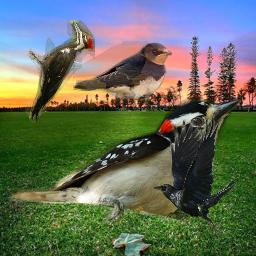Crow: (152, 115, 237, 237)
Swallow: (73, 41, 172, 104)
Woodpecker: (9, 92, 243, 225), (25, 20, 95, 123)
